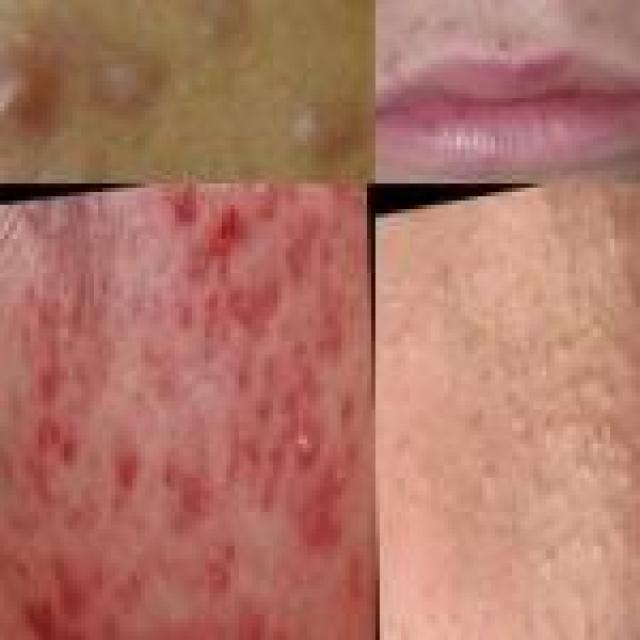cyst: (0, 65, 50, 124), (300, 109, 348, 154), (96, 63, 145, 104), (234, 291, 274, 319), (302, 507, 329, 546), (115, 450, 138, 492), (21, 598, 49, 631), (60, 575, 84, 613), (217, 208, 243, 242), (192, 245, 214, 283), (172, 192, 196, 223), (39, 365, 59, 399), (34, 418, 55, 450), (179, 485, 196, 517), (209, 565, 227, 595), (258, 189, 276, 218), (291, 434, 313, 456), (264, 446, 280, 469), (64, 444, 78, 465)
